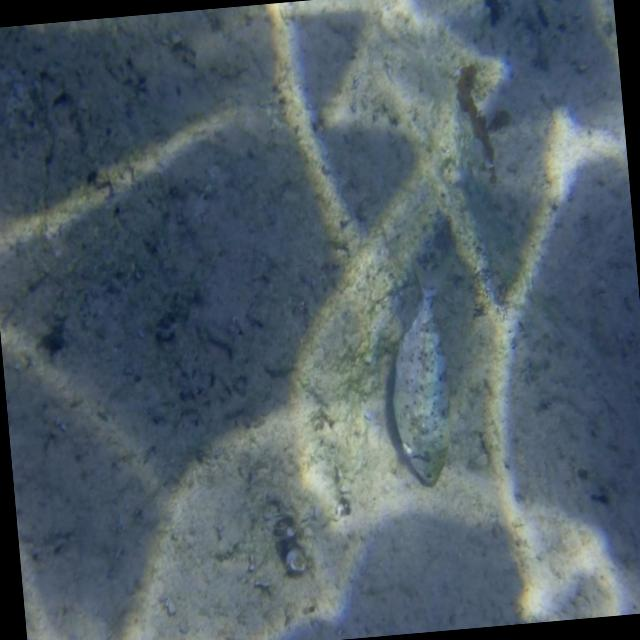Sokar Baligi: (358, 229, 485, 506)
